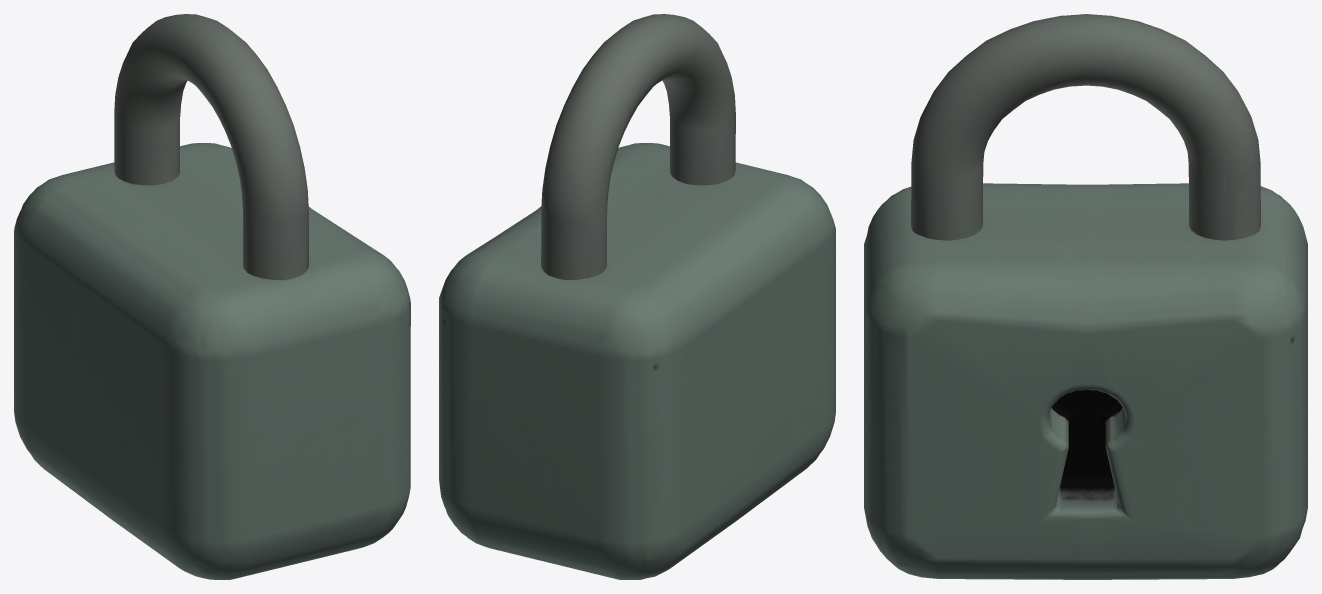
Rendered from icon-lock.glb.
3 views of the same model, side by side, from view 1: azimuth 30°, elevation 25°; view 2: azimuth 150°, elevation 25°; view 3: azimuth 270°, elevation 25° (orthographic). The views are drawn at different scales.
Visible parts, largest first — view 1: tripo_node_kodyurd-model-53____________________; view 2: tripo_node_kodyurd-model-53____________________; view 3: tripo_node_kodyurd-model-53____________________.
Part boxes in pixels (x1,y1,x2,y2): tripo_node_kodyurd-model-53____________________: (14, 14, 410, 579); tripo_node_kodyurd-model-53____________________: (439, 14, 835, 579); tripo_node_kodyurd-model-53____________________: (864, 14, 1307, 579).
Size of the model in its own units: 0.5137 by 0.998 by 0.7715.
1 material, 1 textured.
